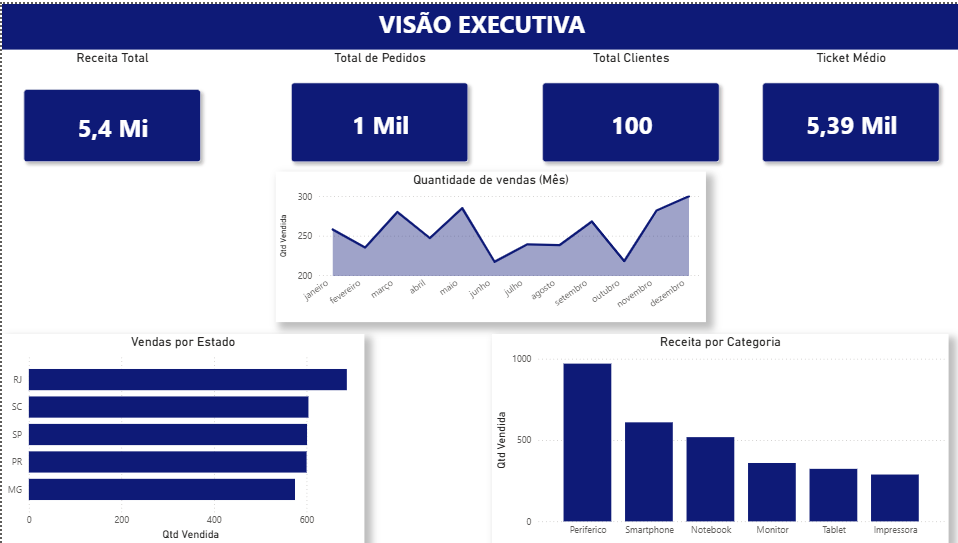

Layout of this report page (visuals, bound fields, positions):
{"tool":"powerbi","page":{"name":"Visão Executiva","canvas":[1280,720],"ordinal":1},"visuals":[{"type":"cardVisual","title":"Receita Total","fields":{"Data":["Vendas.Receita total"]},"box":[0,61.1,294.7,178.5],"z":0},{"type":"cardVisual","title":"Total de Pedidos","fields":{"Data":["Vendas.total pedidos"]},"box":[357.1,61.1,294.7,178.5],"z":1000},{"type":"cardVisual","title":"Total Clientes","fields":{"Data":["Clientes.total clientes"]},"box":[690.9,61.1,294.7,178.5],"z":2000},{"type":"cardVisual","title":"Ticket Médio","fields":{"Data":["Vendas.tickte médio"]},"box":[985.6,61.1,294.7,178.5],"z":3000},{"type":"lineChart","title":"Quantidade de vendas (Mês)","fields":{"Category":["Vendas.Data.Variation.Hierarquia de datas.Mês"],"Y":["Vendas.Qtd Vendida"]},"box":[365.6,222.6,573.5,200.5],"z":4000},{"type":"clusteredBarChart","title":"Vendas por Estado","fields":{"Category":["Clientes.Estado"],"Y":["Vendas.Qtd Vendida"]},"box":[0,440.2,483,280],"z":5000},{"type":"textbox","box":[0,0,1280.3,61.1],"z":6000},{"type":"columnChart","title":"Receita por Categoria","fields":{"Category":["Produtos.Categoria"],"Y":["Vendas.Qtd Vendida"]},"box":[653,440.2,609,280],"z":7000}]}

Visuals, with their boxes in screenshot pixels (x1, y1, x2, y2), scaled from the page's 1280x720 canvas onto the 958x543 screenshot:
"Receita Total" cardVisual: (x1=0, y1=46, x2=221, y2=181)
"Total de Pedidos" cardVisual: (x1=267, y1=46, x2=488, y2=181)
"Total Clientes" cardVisual: (x1=517, y1=46, x2=738, y2=181)
"Ticket Médio" cardVisual: (x1=738, y1=46, x2=957, y2=181)
"Quantidade de vendas (Mês)" lineChart: (x1=274, y1=168, x2=703, y2=319)
"Vendas por Estado" clusteredBarChart: (x1=0, y1=332, x2=361, y2=542)
textbox: (x1=0, y1=0, x2=957, y2=46)
"Receita por Categoria" columnChart: (x1=489, y1=332, x2=945, y2=542)
